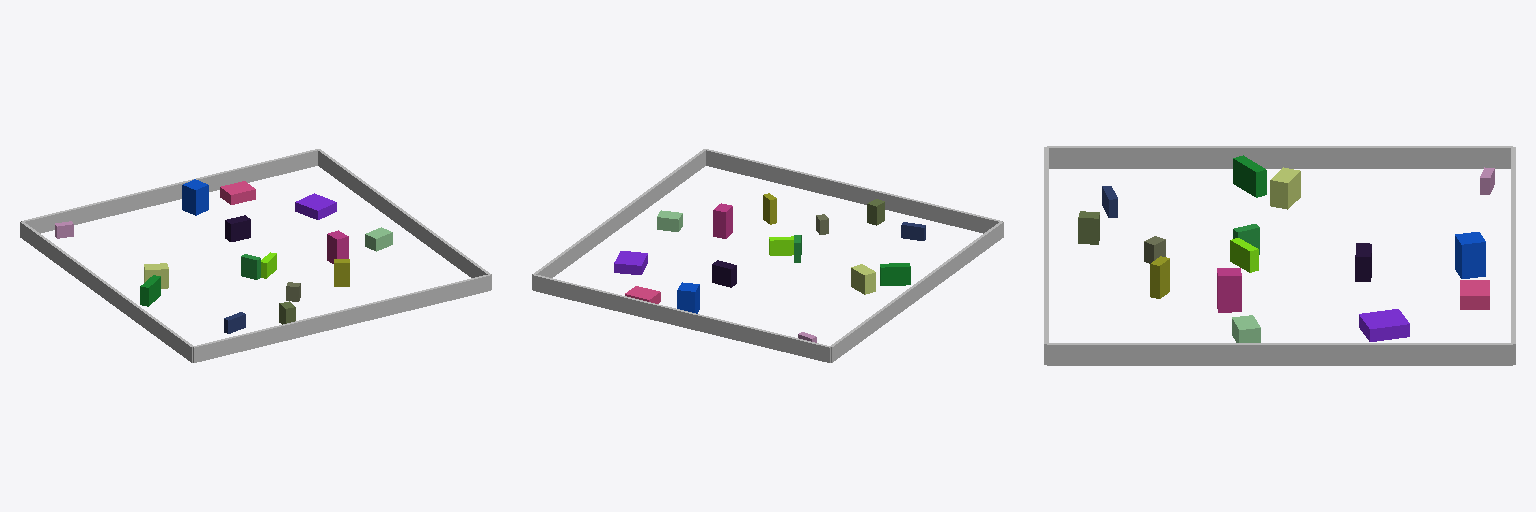
URDF robot description (random_environment):
<?xml version="1.0"?>
<robot name="random_environment">
<link name="world"/>

  <link name="obj_0">
    <visual>
      <origin xyz="5.0 0 0.25" rpy="0 0 0.0"/>
      <geometry>
        <box size="0.1 10.0 0.5"/>
      </geometry>
      <material name="obj_0_mat">
        <color rgba="0.8 0.8 0.8 1.0"/>
      </material>
    </visual>

    <collision>
      <origin xyz="5.0 0 0.25" rpy="0 0 0.0"/>
      <geometry>
        <box size="0.1 10.0 0.5"/>
      </geometry>
    </collision>

    <inertial>
      <mass value="1.0"/>
      <inertia ixx="0.01" iyy="0.01" izz="0.01"
               ixy="0" ixz="0" iyz="0"/>
    </inertial>
  </link>


  <joint name="world_to_obj_0" type="fixed">
    <parent link="world"/>
    <child link="obj_0"/>
  </joint>


  <link name="obj_1">
    <visual>
      <origin xyz="-5.0 0 0.25" rpy="0 0 0.0"/>
      <geometry>
        <box size="0.1 10.0 0.5"/>
      </geometry>
      <material name="obj_1_mat">
        <color rgba="0.8 0.8 0.8 1.0"/>
      </material>
    </visual>

    <collision>
      <origin xyz="-5.0 0 0.25" rpy="0 0 0.0"/>
      <geometry>
        <box size="0.1 10.0 0.5"/>
      </geometry>
    </collision>

    <inertial>
      <mass value="1.0"/>
      <inertia ixx="0.01" iyy="0.01" izz="0.01"
               ixy="0" ixz="0" iyz="0"/>
    </inertial>
  </link>


  <joint name="world_to_obj_1" type="fixed">
    <parent link="world"/>
    <child link="obj_1"/>
  </joint>


  <link name="obj_2">
    <visual>
      <origin xyz="0 5.0 0.25" rpy="0 0 0.0"/>
      <geometry>
        <box size="10.0 0.1 0.5"/>
      </geometry>
      <material name="obj_2_mat">
        <color rgba="0.8 0.8 0.8 1.0"/>
      </material>
    </visual>

    <collision>
      <origin xyz="0 5.0 0.25" rpy="0 0 0.0"/>
      <geometry>
        <box size="10.0 0.1 0.5"/>
      </geometry>
    </collision>

    <inertial>
      <mass value="1.0"/>
      <inertia ixx="0.01" iyy="0.01" izz="0.01"
               ixy="0" ixz="0" iyz="0"/>
    </inertial>
  </link>


  <joint name="world_to_obj_2" type="fixed">
    <parent link="world"/>
    <child link="obj_2"/>
  </joint>


  <link name="obj_3">
    <visual>
      <origin xyz="0 -5.0 0.25" rpy="0 0 0.0"/>
      <geometry>
        <box size="10.0 0.1 0.5"/>
      </geometry>
      <material name="obj_3_mat">
        <color rgba="0.8 0.8 0.8 1.0"/>
      </material>
    </visual>

    <collision>
      <origin xyz="0 -5.0 0.25" rpy="0 0 0.0"/>
      <geometry>
        <box size="10.0 0.1 0.5"/>
      </geometry>
    </collision>

    <inertial>
      <mass value="1.0"/>
      <inertia ixx="0.01" iyy="0.01" izz="0.01"
               ixy="0" ixz="0" iyz="0"/>
    </inertial>
  </link>


  <joint name="world_to_obj_3" type="fixed">
    <parent link="world"/>
    <child link="obj_3"/>
  </joint>


  <link name="obj_4">
    <visual>
      <origin xyz="-0.5820984664355082 -0.7166897812125987 0.3198649911514837" rpy="0 0 2.0755548937813404"/>
      <geometry>
        <box size="0.548795921713603 0.22074098546231308 0.6397299823029674"/>
      </geometry>
      <material name="obj_4_mat">
        <color rgba="0.2046486340378425 0.6192709663506637 0.29965467367452314 1.0"/>
      </material>
    </visual>

    <collision>
      <origin xyz="-0.5820984664355082 -0.7166897812125987 0.3198649911514837" rpy="0 0 2.0755548937813404"/>
      <geometry>
        <box size="0.548795921713603 0.22074098546231308 0.6397299823029674"/>
      </geometry>
    </collision>

    <inertial>
      <mass value="1.0"/>
      <inertia ixx="0.01" iyy="0.01" izz="0.01"
               ixy="0" ixz="0" iyz="0"/>
    </inertial>
  </link>


  <joint name="world_to_obj_4" type="fixed">
    <parent link="world"/>
    <child link="obj_4"/>
  </joint>


  <link name="obj_5">
    <visual>
      <origin xyz="-3.288780491895598 0.12220309139171803 0.31165683771081565" rpy="0 0 1.158869853890875"/>
      <geometry>
        <box size="0.4134618200822933 0.696907066215436 0.6233136754216313"/>
      </geometry>
      <material name="obj_5_mat">
        <color rgba="0.7853351478166735 0.8539752926394888 0.4942368373819278 1.0"/>
      </material>
    </visual>

    <collision>
      <origin xyz="-3.288780491895598 0.12220309139171803 0.31165683771081565" rpy="0 0 1.158869853890875"/>
      <geometry>
        <box size="0.4134618200822933 0.696907066215436 0.6233136754216313"/>
      </geometry>
    </collision>

    <inertial>
      <mass value="1.0"/>
      <inertia ixx="0.01" iyy="0.01" izz="0.01"
               ixy="0" ixz="0" iyz="0"/>
    </inertial>
  </link>


  <joint name="world_to_obj_5" type="fixed">
    <parent link="world"/>
    <child link="obj_5"/>
  </joint>


  <link name="obj_6">
    <visual>
      <origin xyz="-3.912421460518097 -0.6468990516234951 0.3020984360486816" rpy="0 0 0.6065216309673527"/>
      <geometry>
        <box size="0.8772491882859745 0.2637163816072488 0.6041968720973632"/>
      </geometry>
      <material name="obj_6_mat">
        <color rgba="0.12715997170127746 0.5967453089785958 0.22601200060423587 1.0"/>
      </material>
    </visual>

    <collision>
      <origin xyz="-3.912421460518097 -0.6468990516234951 0.3020984360486816" rpy="0 0 0.6065216309673527"/>
      <geometry>
        <box size="0.8772491882859745 0.2637163816072488 0.6041968720973632"/>
      </geometry>
    </collision>

    <inertial>
      <mass value="1.0"/>
      <inertia ixx="0.01" iyy="0.01" izz="0.01"
               ixy="0" ixz="0" iyz="0"/>
    </inertial>
  </link>


  <joint name="world_to_obj_6" type="fixed">
    <parent link="world"/>
    <child link="obj_6"/>
  </joint>


  <link name="obj_7">
    <visual>
      <origin xyz="-0.28991263875929807 -2.684310963615312 0.2399305140013197" rpy="0 0 4.0237941264893475"/>
      <geometry>
        <box size="0.2855565474479864 0.37624496565644777 0.4798610280026394"/>
      </geometry>
      <material name="obj_7_mat">
        <color rgba="0.48306983555175165 0.5052367200185491 0.3868926511185593 1.0"/>
      </material>
    </visual>

    <collision>
      <origin xyz="-0.28991263875929807 -2.684310963615312 0.2399305140013197" rpy="0 0 4.0237941264893475"/>
      <geometry>
        <box size="0.2855565474479864 0.37624496565644777 0.4798610280026394"/>
      </geometry>
    </collision>

    <inertial>
      <mass value="1.0"/>
      <inertia ixx="0.01" iyy="0.01" izz="0.01"
               ixy="0" ixz="0" iyz="0"/>
    </inertial>
  </link>


  <joint name="world_to_obj_7" type="fixed">
    <parent link="world"/>
    <child link="obj_7"/>
  </joint>


  <link name="obj_8">
    <visual>
      <origin xyz="1.8067711194644058 4.180959720803296 0.16491943940092557" rpy="0 0 3.14164518837165"/>
      <geometry>
        <box size="0.8349099635532617 0.6640033431022454 0.32983887880185114"/>
      </geometry>
      <material name="obj_8_mat">
        <color rgba="0.8895200639461449 0.34161365267110966 0.5671441276277093 1.0"/>
      </material>
    </visual>

    <collision>
      <origin xyz="1.8067711194644058 4.180959720803296 0.16491943940092557" rpy="0 0 3.14164518837165"/>
      <geometry>
        <box size="0.8349099635532617 0.6640033431022454 0.32983887880185114"/>
      </geometry>
    </collision>

    <inertial>
      <mass value="1.0"/>
      <inertia ixx="0.01" iyy="0.01" izz="0.01"
               ixy="0" ixz="0" iyz="0"/>
    </inertial>
  </link>


  <joint name="world_to_obj_8" type="fixed">
    <parent link="world"/>
    <child link="obj_8"/>
  </joint>


  <link name="obj_9">
    <visual>
      <origin xyz="0.320437561478907 4.083680042503801 0.41062367399884014" rpy="0 0 3.4193607158897907"/>
      <geometry>
        <box size="0.542036770636888 0.5493978104214392 0.8212473479976803"/>
      </geometry>
      <material name="obj_9_mat">
        <color rgba="0.0820949222750248 0.3663424016750204 0.8508505040045017 1.0"/>
      </material>
    </visual>

    <collision>
      <origin xyz="0.320437561478907 4.083680042503801 0.41062367399884014" rpy="0 0 3.4193607158897907"/>
      <geometry>
        <box size="0.542036770636888 0.5493978104214392 0.8212473479976803"/>
      </geometry>
    </collision>

    <inertial>
      <mass value="1.0"/>
      <inertia ixx="0.01" iyy="0.01" izz="0.01"
               ixy="0" ixz="0" iyz="0"/>
    </inertial>
  </link>


  <joint name="world_to_obj_9" type="fixed">
    <parent link="world"/>
    <child link="obj_9"/>
  </joint>


  <link name="obj_10">
    <visual>
      <origin xyz="-3.895700663367408 4.444668102791455 0.19887089559894133" rpy="0 0 6.098335964449215"/>
      <geometry>
        <box size="0.5250200344383606 0.22176189271587968 0.39774179119788267"/>
      </geometry>
      <material name="obj_10_mat">
        <color rgba="0.8002583511325868 0.6018171214054674 0.7649598604516815 1.0"/>
      </material>
    </visual>

    <collision>
      <origin xyz="-3.895700663367408 4.444668102791455 0.19887089559894133" rpy="0 0 6.098335964449215"/>
      <geometry>
        <box size="0.5250200344383606 0.22176189271587968 0.39774179119788267"/>
      </geometry>
    </collision>

    <inertial>
      <mass value="1.0"/>
      <inertia ixx="0.01" iyy="0.01" izz="0.01"
               ixy="0" ixz="0" iyz="0"/>
    </inertial>
  </link>


  <joint name="world_to_obj_10" type="fixed">
    <parent link="world"/>
    <child link="obj_10"/>
  </joint>


  <link name="obj_11">
    <visual>
      <origin xyz="-1.2903814698951699 -4.0888893127914 0.30962675012014573" rpy="0 0 6.177335282571427"/>
      <geometry>
        <box size="0.3353803572673424 0.43441858545555184 0.6192535002402915"/>
      </geometry>
      <material name="obj_11_mat">
        <color rgba="0.4413549193548467 0.5040004393791526 0.32354131753469884 1.0"/>
      </material>
    </visual>

    <collision>
      <origin xyz="-1.2903814698951699 -4.0888893127914 0.30962675012014573" rpy="0 0 6.177335282571427"/>
      <geometry>
        <box size="0.3353803572673424 0.43441858545555184 0.6192535002402915"/>
      </geometry>
    </collision>

    <inertial>
      <mass value="1.0"/>
      <inertia ixx="0.01" iyy="0.01" izz="0.01"
               ixy="0" ixz="0" iyz="0"/>
    </inertial>
  </link>


  <joint name="world_to_obj_11" type="fixed">
    <parent link="world"/>
    <child link="obj_11"/>
  </joint>


  <link name="obj_12">
    <visual>
      <origin xyz="2.130723506584016 -1.087104897525263 0.43280675985380035" rpy="0 0 0.0817903386578102"/>
      <geometry>
        <box size="0.40779580219770967 0.50951190825661 0.8656135197076007"/>
      </geometry>
      <material name="obj_12_mat">
        <color rgba="0.7974049390325936 0.2693887975963012 0.5826848885290346 1.0"/>
      </material>
    </visual>

    <collision>
      <origin xyz="2.130723506584016 -1.087104897525263 0.43280675985380035" rpy="0 0 0.0817903386578102"/>
      <geometry>
        <box size="0.40779580219770967 0.50951190825661 0.8656135197076007"/>
      </geometry>
    </collision>

    <inertial>
      <mass value="1.0"/>
      <inertia ixx="0.01" iyy="0.01" izz="0.01"
               ixy="0" ixz="0" iyz="0"/>
    </inertial>
  </link>


  <joint name="world_to_obj_12" type="fixed">
    <parent link="world"/>
    <child link="obj_12"/>
  </joint>


  <link name="obj_13">
    <visual>
      <origin xyz="-0.026335811389386343 -0.7658474636278152 0.2550093703493126" rpy="0 0 2.2045931749606336"/>
      <geometry>
        <box size="0.22044075347975423 0.7297616154146607 0.5100187406986252"/>
      </geometry>
      <material name="obj_13_mat">
        <color rgba="0.5509779053244193 0.9729106898748249 0.11277621523807146 1.0"/>
      </material>
    </visual>

    <collision>
      <origin xyz="-0.026335811389386343 -0.7658474636278152 0.2550093703493126" rpy="0 0 2.2045931749606336"/>
      <geometry>
        <box size="0.22044075347975423 0.7297616154146607 0.5100187406986252"/>
      </geometry>
    </collision>

    <inertial>
      <mass value="1.0"/>
      <inertia ixx="0.01" iyy="0.01" izz="0.01"
               ixy="0" ixz="0" iyz="0"/>
    </inertial>
  </link>


  <joint name="world_to_obj_13" type="fixed">
    <parent link="world"/>
    <child link="obj_13"/>
  </joint>


  <link name="obj_14">
    <visual>
      <origin xyz="1.4176114889313958 -2.568278282400417 0.39535990344836014" rpy="0 0 2.6185390921518885"/>
      <geometry>
        <box size="0.4506068227437709 0.23343816785224805 0.7907198068967203"/>
      </geometry>
      <material name="obj_14_mat">
        <color rgba="0.643841934148195 0.6614813267154414 0.1704771334837707 1.0"/>
      </material>
    </visual>

    <collision>
      <origin xyz="1.4176114889313958 -2.568278282400417 0.39535990344836014" rpy="0 0 2.6185390921518885"/>
      <geometry>
        <box size="0.4506068227437709 0.23343816785224805 0.7907198068967203"/>
      </geometry>
    </collision>

    <inertial>
      <mass value="1.0"/>
      <inertia ixx="0.01" iyy="0.01" izz="0.01"
               ixy="0" ixz="0" iyz="0"/>
    </inertial>
  </link>


  <joint name="world_to_obj_14" type="fixed">
    <parent link="world"/>
    <child link="obj_14"/>
  </joint>


  <link name="obj_15">
    <visual>
      <origin xyz="3.3202496378887094 2.2390009044916903 0.1535816832686764" rpy="0 0 5.017661648359744"/>
      <geometry>
        <box size="0.9053217885988389 0.8224065278467747 0.3071633665373528"/>
      </geometry>
      <material name="obj_15_mat">
        <color rgba="0.5433452305839027 0.2208379150614619 0.9184586465896005 1.0"/>
      </material>
    </visual>

    <collision>
      <origin xyz="3.3202496378887094 2.2390009044916903 0.1535816832686764" rpy="0 0 5.017661648359744"/>
      <geometry>
        <box size="0.9053217885988389 0.8224065278467747 0.3071633665373528"/>
      </geometry>
    </collision>

    <inertial>
      <mass value="1.0"/>
      <inertia ixx="0.01" iyy="0.01" izz="0.01"
               ixy="0" ixz="0" iyz="0"/>
    </inertial>
  </link>


  <joint name="world_to_obj_15" type="fixed">
    <parent link="world"/>
    <child link="obj_15"/>
  </joint>


  <link name="obj_16">
    <visual>
      <origin xyz="3.7252392944861885 -0.7223808482386138 0.20551141171200793" rpy="0 0 3.3941233943027878"/>
      <geometry>
        <box size="0.673667662133101 0.4769903275641172 0.41102282342401586"/>
      </geometry>
      <material name="obj_16_mat">
        <color rgba="0.6084421578050496 0.826249828434158 0.6235631845621308 1.0"/>
      </material>
    </visual>

    <collision>
      <origin xyz="3.7252392944861885 -0.7223808482386138 0.20551141171200793" rpy="0 0 3.3941233943027878"/>
      <geometry>
        <box size="0.673667662133101 0.4769903275641172 0.41102282342401586"/>
      </geometry>
    </collision>

    <inertial>
      <mass value="1.0"/>
      <inertia ixx="0.01" iyy="0.01" izz="0.01"
               ixy="0" ixz="0" iyz="0"/>
    </inertial>
  </link>


  <joint name="world_to_obj_16" type="fixed">
    <parent link="world"/>
    <child link="obj_16"/>
  </joint>


  <link name="obj_17">
    <visual>
      <origin xyz="0.43117002081338995 1.7956855781149335 0.29570646679794366" rpy="0 0 1.544477093383147"/>
      <geometry>
        <box size="0.34136972926754083 0.6730058821228366 0.5914129335958873"/>
      </geometry>
      <material name="obj_17_mat">
        <color rgba="0.1866271455864802 0.11058314779616107 0.2740592525360537 1.0"/>
      </material>
    </visual>

    <collision>
      <origin xyz="0.43117002081338995 1.7956855781149335 0.29570646679794366" rpy="0 0 1.544477093383147"/>
      <geometry>
        <box size="0.34136972926754083 0.6730058821228366 0.5914129335958873"/>
      </geometry>
    </collision>

    <inertial>
      <mass value="1.0"/>
      <inertia ixx="0.01" iyy="0.01" izz="0.01"
               ixy="0" ixz="0" iyz="0"/>
    </inertial>
  </link>


  <joint name="world_to_obj_17" type="fixed">
    <parent link="world"/>
    <child link="obj_17"/>
  </joint>


  <link name="obj_18">
    <visual>
      <origin xyz="-2.8144210976829203 -3.6424075296527665 0.218068922087897" rpy="0 0 1.7828903202925674"/>
      <geometry>
        <box size="0.20820003151967273 0.7034877782636657 0.436137844175794"/>
      </geometry>
      <material name="obj_18_mat">
        <color rgba="0.21492438413069526 0.2856037339109023 0.471409857469679 1.0"/>
      </material>
    </visual>

    <collision>
      <origin xyz="-2.8144210976829203 -3.6424075296527665 0.218068922087897" rpy="0 0 1.7828903202925674"/>
      <geometry>
        <box size="0.20820003151967273 0.7034877782636657 0.436137844175794"/>
      </geometry>
    </collision>

    <inertial>
      <mass value="1.0"/>
      <inertia ixx="0.01" iyy="0.01" izz="0.01"
               ixy="0" ixz="0" iyz="0"/>
    </inertial>
  </link>


  <joint name="world_to_obj_18" type="fixed">
    <parent link="world"/>
    <child link="obj_18"/>
  </joint>

<!-- <link name="table_2_3">
    <contact>
      <lateral_friction value="1.0"/>
    </contact>
    <inertial>
      <origin rpy="0 0 0" xyz="1 -4.5 0"/>
       <mass value=".0"/>
       <inertia ixx="1" ixy="0" ixz="0" iyy="1" iyz="0" izz="1"/>
    </inertial>
    <visual>
      <origin rpy="0 0 0" xyz="1 -4.5 0.75"/>
      <geometry>
	<mesh filename="table.obj" scale="1.5 1 0.05"/>
      </geometry>
       <material name="white">
        <color rgba="1 1 1 1"/>
      </material>
    </visual>
    <collision>
      <origin rpy="0 0 0" xyz="1 -4.5 0.75"/>
      <geometry>
	 <box size="1.5 1 0.05"/>
      </geometry>
    </collision>
	<visual>
      <origin rpy="0 0 0" xyz="0.35 -4.9 0.375"/>
      <geometry>
	    <mesh filename="table.obj" scale="0.1 0.1 0.75"/>
      </geometry>
	  <material name="framemat0"/>	 
    </visual>
    <visual>
      <origin rpy="0 0 0" xyz="0.35 -4.1 0.375"/>
      <geometry>
        <mesh filename="table.obj" scale="0.1 0.1 0.75"/>
      </geometry>
	  <material name="framemat0"/>
	  </visual>
    <visual>
      <origin rpy="0 0 0" xyz="1.65 -4.9 0.375"/>
      <geometry>
        <mesh filename="table.obj" scale="0.1 0.1 0.75"/>
      </geometry>
	  <material name="framemat0"/>
	</visual>
    <visual>
      <origin rpy="0 0 0" xyz="1.65 -4.1 0.375"/>
      <geometry>
        <mesh filename="table.obj" scale="0.1 0.1 0.75"/>
      </geometry>
    </visual>
  </link> -->

<!-- <joint name="joint_table_2_3" type="fixed">
  <parent link="world"/>
  <child link="table_2_3"/>
  <origin xyz="2.3 0.5833333333333339 0.0"
          rpy="0 0 0"/>
</joint> -->

</robot>

--- Facts derived from the render (not from the file) ---
Views: 3 orthographic renders of the robot side by side, from view 1: azimuth 30°, elevation 25°; view 2: azimuth 150°, elevation 25°; view 3: azimuth 270°, elevation 25°.
Robot: random_environment — 20 links, 19 joints (19 fixed); root link world; default pose: all joints at 0.
Visible links, largest first — view 1: obj_3, obj_2, obj_1, obj_0, obj_9, obj_15, obj_8, obj_12, obj_17; view 2: obj_2, obj_3, obj_1, obj_0, obj_6, obj_15, obj_12, obj_9, obj_5, obj_17; view 3: obj_0, obj_1, obj_9, obj_15, obj_12, obj_5, obj_6, obj_3, obj_2, obj_8, obj_13, obj_14 (+3 smaller).
Link boxes in pixels (box(x1,y1,x2,y2)): obj_3: box(193, 275, 490, 362); obj_2: box(21, 149, 318, 233); obj_1: box(20, 222, 192, 362); obj_0: box(318, 149, 491, 289); obj_9: box(182, 179, 208, 215); obj_15: box(295, 193, 336, 219); obj_8: box(220, 181, 255, 204); obj_12: box(327, 230, 348, 263); obj_17: box(225, 215, 250, 241); obj_2: box(533, 275, 830, 362); obj_3: box(705, 149, 1002, 233); obj_1: box(831, 221, 1003, 362); obj_0: box(532, 149, 705, 289); obj_6: box(880, 263, 910, 285); obj_15: box(614, 251, 647, 274); obj_12: box(713, 203, 732, 238); obj_9: box(677, 282, 699, 313); obj_5: box(851, 264, 875, 294); obj_17: box(712, 260, 736, 287); obj_0: box(1047, 343, 1512, 365); obj_1: box(1047, 146, 1512, 168); obj_9: box(1455, 232, 1485, 278); obj_15: box(1359, 309, 1409, 341); obj_12: box(1217, 268, 1241, 312); obj_5: box(1270, 167, 1300, 209); obj_6: box(1233, 155, 1266, 197); obj_3: box(1044, 147, 1048, 364); obj_2: box(1511, 147, 1515, 364); obj_8: box(1460, 280, 1489, 309); obj_13: box(1230, 238, 1258, 272); obj_14: box(1150, 256, 1169, 298).
Bounding box of the posed robot: 10.1 × 10.1 × 0.8656 m (x, y, z).
Geometry: primitives only (box / cylinder / sphere), no mesh files.
